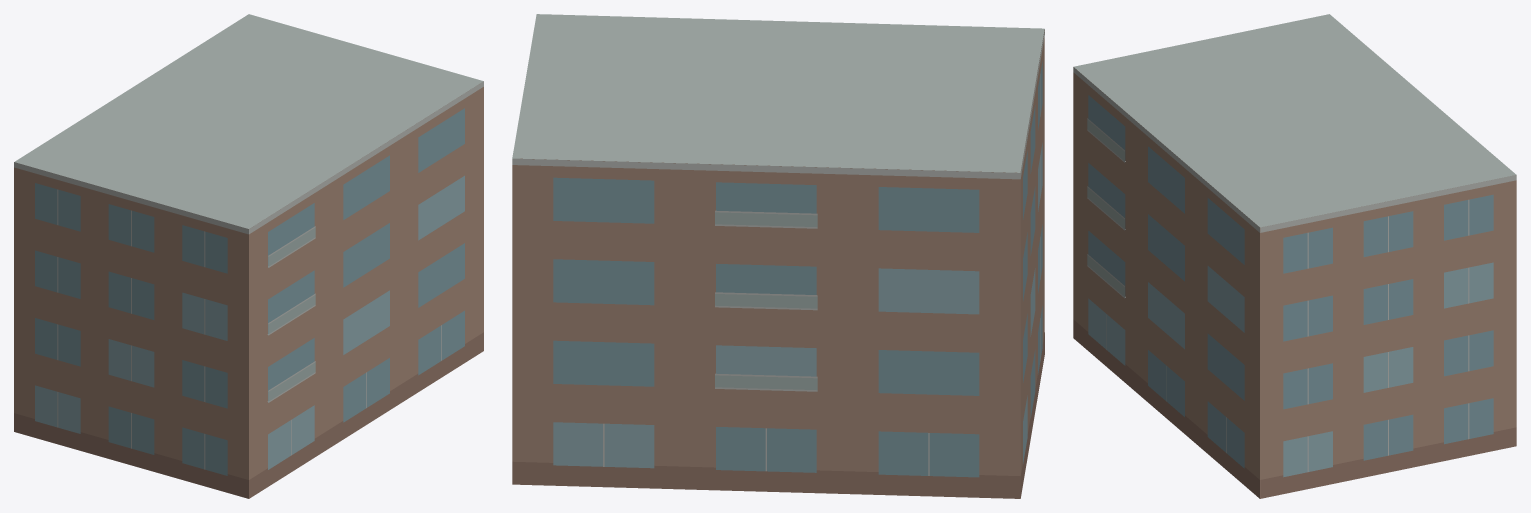
File: survey-upis-32706710.glb
The picture shows the model from 3 angles, left to right: view 1: azimuth 30°, elevation 25°; view 2: azimuth 150°, elevation 25°; view 3: azimuth 270°, elevation 25°; orthographic projection. The views are drawn at different scales.
Parts seen in each view (by area): view 1: survey-upis-32706710.tmp; view 2: survey-upis-32706710.tmp; view 3: survey-upis-32706710.tmp.
Boxes of the visible parts, bbox=[...] form: survey-upis-32706710.tmp: bbox=[14, 14, 483, 498]; survey-upis-32706710.tmp: bbox=[512, 14, 1044, 498]; survey-upis-32706710.tmp: bbox=[1073, 14, 1516, 498].
Size of the model in its own units: 20.6 by 12.2 by 18.07.
